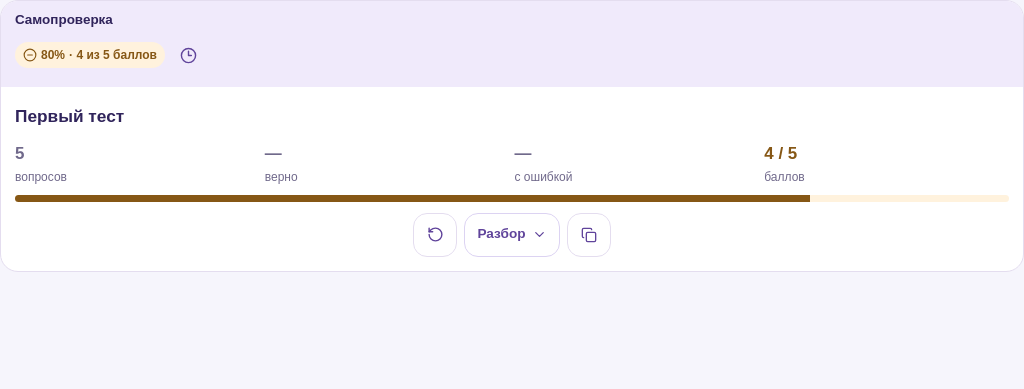
time control in the existing quiz card › does not invent absent timestamps in an older completed attempt
What coordinates should you click on to do the following:
click the button named "Показать время теста «Первый тест»"
I would click on:
 (189, 56)
Its box is [167,34,211,78].
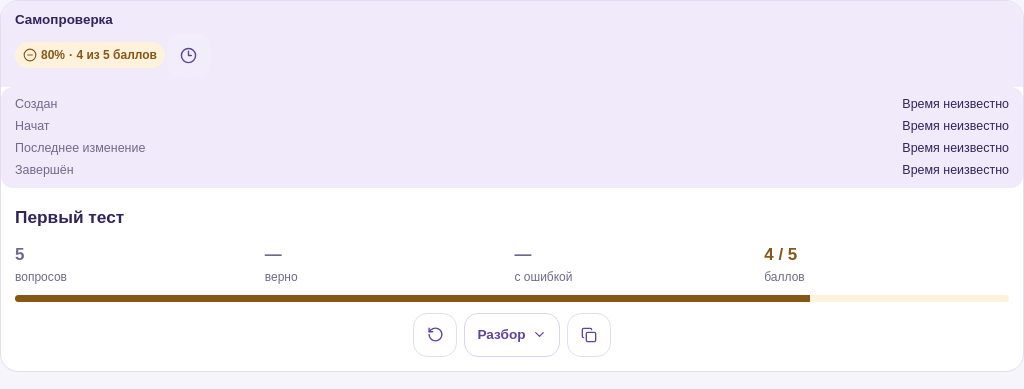
Now the text "Время неизвестно" is shown, box [902,96,1009,113]
